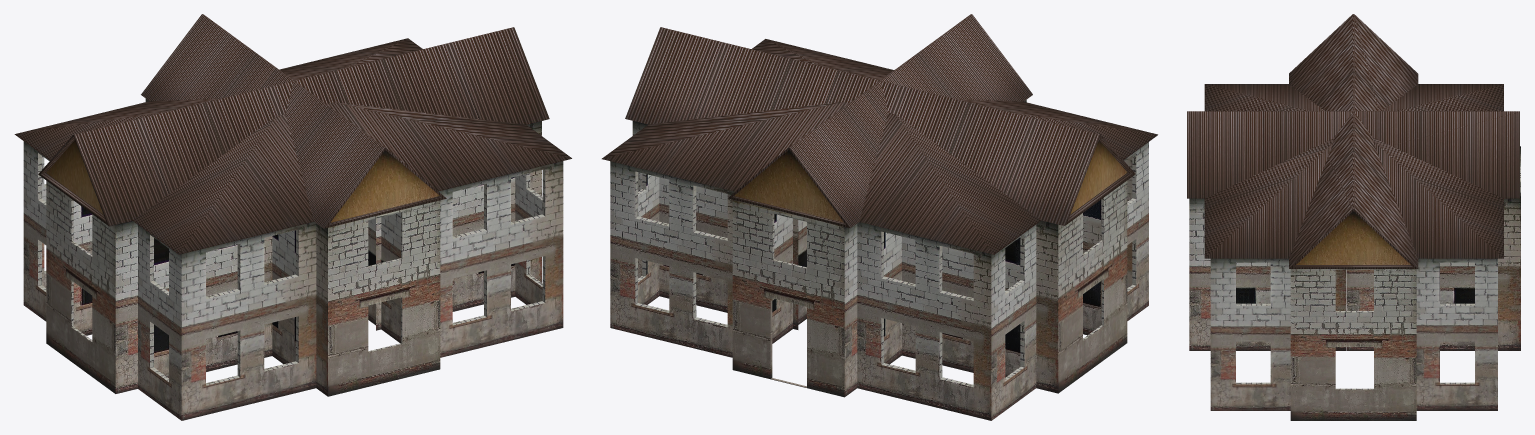
The model's file is r402_ishim_stroyka.FBX.
3 views of the same model, side by side, from view 1: azimuth 30°, elevation 25°; view 2: azimuth 150°, elevation 25°; view 3: azimuth 270°, elevation 25° (orthographic). The views are drawn at different scales.
Parts seen in each view (by area): view 1: r402_ishim_stroyka; view 2: r402_ishim_stroyka; view 3: r402_ishim_stroyka.
Part boxes in pixels (x1,y1,x2,y2): r402_ishim_stroyka: (14,14,571,420); r402_ishim_stroyka: (602,14,1157,420); r402_ishim_stroyka: (1187,14,1520,420).
Size of the model in its own units: 17.56 by 12.67 by 8.98.
